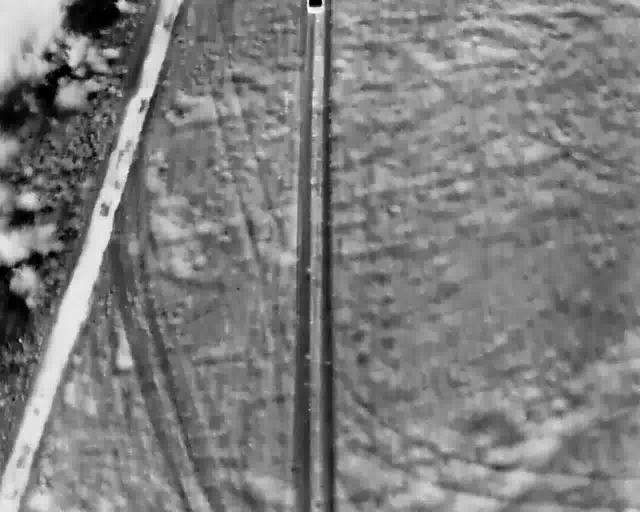car: (306, 0, 325, 13)
